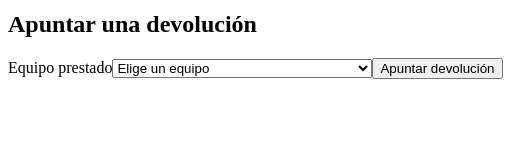
Scenario: pantalla Apuntar una devolución › enseña tal cual el mensaje de la API con un 409: El equipo no está prestado
Select "Portátil 07: Ana Pérez hasta 2026-12-15" in the dropdown labelled "Equipo prestado" at (242,68), box [112,59,372,78]
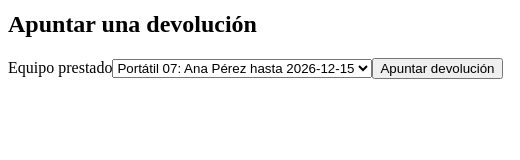
Click the button "Apuntar devolución" at (437,68), box [372,58,502,79]
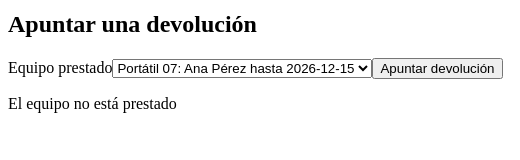
Check: the message reads "El equipo no está prestado", box [8,95,177,112]
